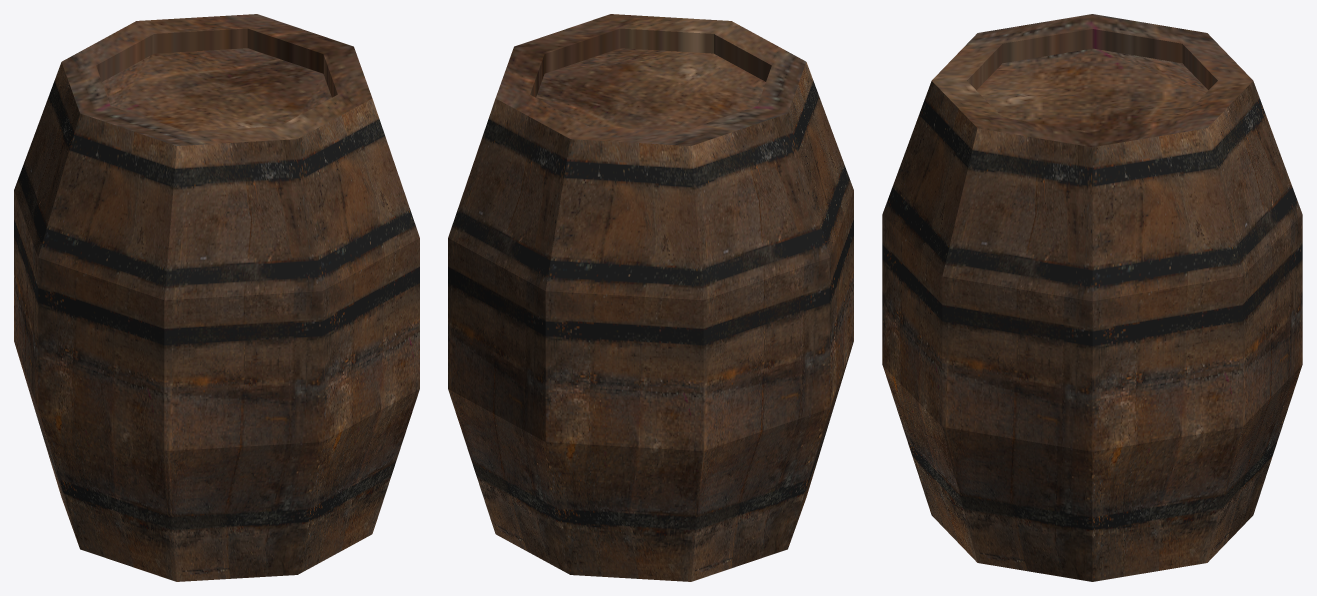
File: barrel_small00.fbx
The picture shows the model from 3 angles, left to right: view 1: azimuth 30°, elevation 25°; view 2: azimuth 150°, elevation 25°; view 3: azimuth 270°, elevation 25°; orthographic projection.
Visible parts, largest first — view 1: Cube; view 2: Cube; view 3: Cube.
Boxes of the visible parts, x1=… form: Cube: x1=14, y1=14, x2=419, y2=581; Cube: x1=448, y1=14, x2=853, y2=581; Cube: x1=882, y1=14, x2=1302, y2=581.
Size of the model in its own units: 76.8 by 89.46 by 78.35.
1 material, 1 textured.
